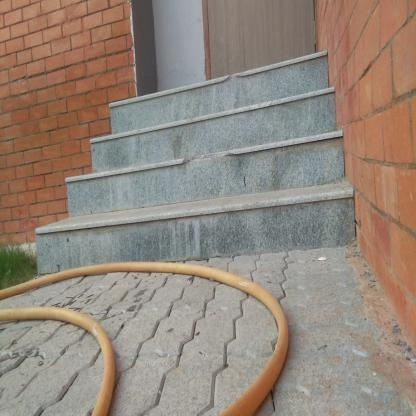stairs: (88, 126, 339, 274)
